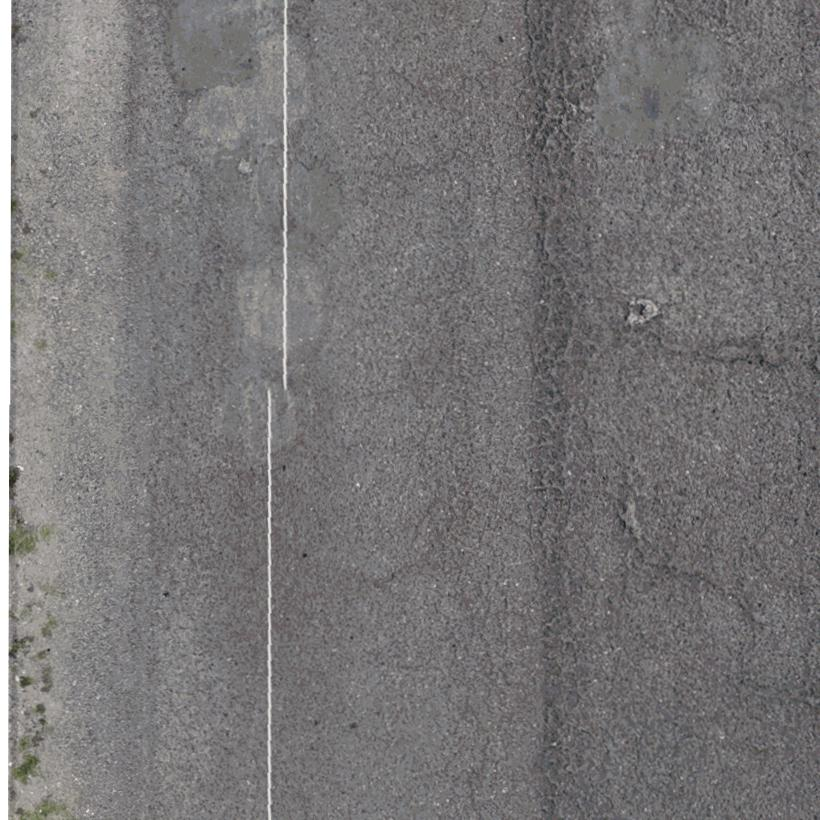BACHE: (181, 28, 314, 149), (237, 263, 322, 348)
GRIETA: (619, 495, 768, 625), (640, 328, 819, 372)
PARCHE: (170, 0, 260, 91), (602, 41, 689, 133), (225, 366, 296, 453)
PIEL DE COCODRILO: (524, 0, 638, 819), (402, 213, 539, 819), (347, 1, 530, 226), (131, 631, 217, 819)
